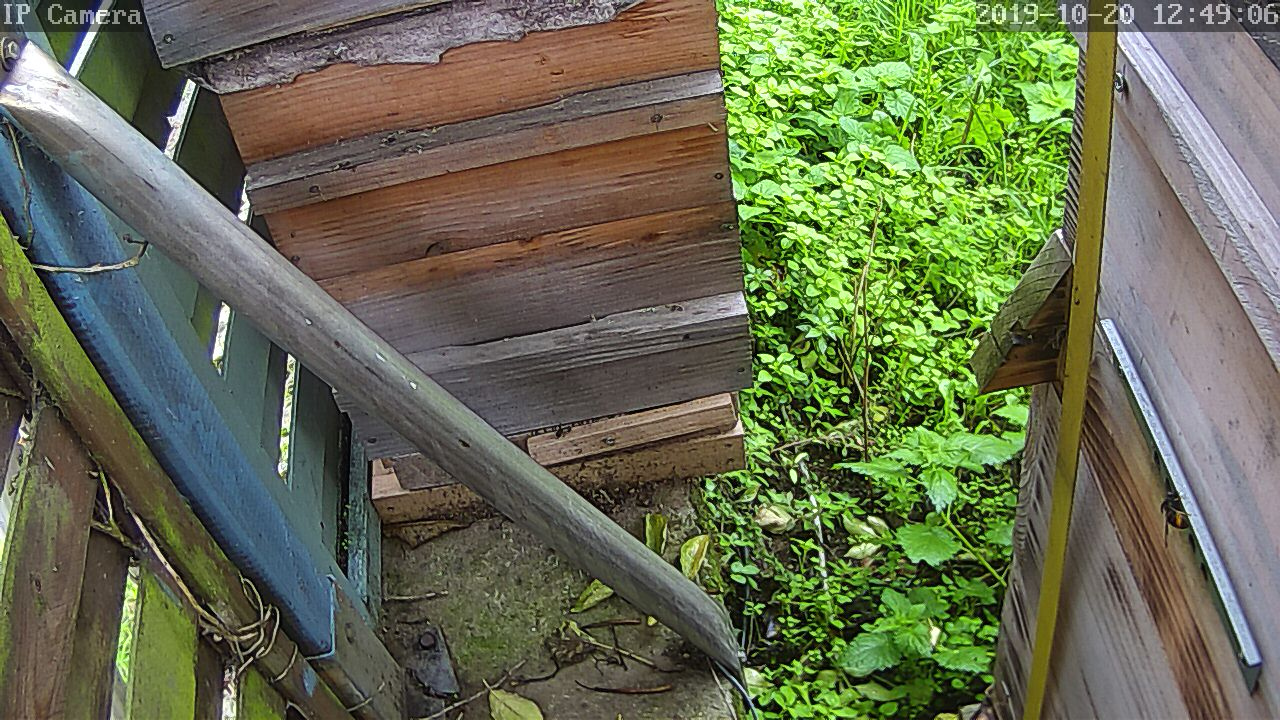bee: (1156, 494, 1193, 536)
